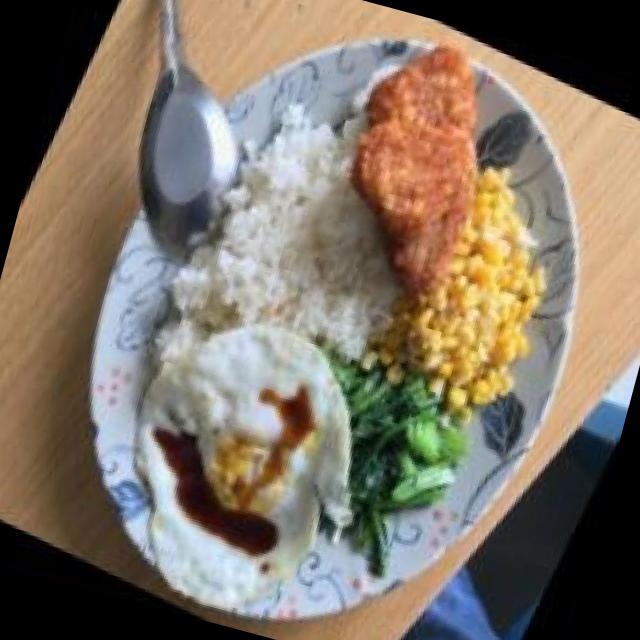fried_eggs: (57, 269, 404, 640)
rice: (182, 106, 436, 367)
triangle_hash_brown: (290, 12, 547, 318)
water_spinach: (284, 350, 492, 598)
